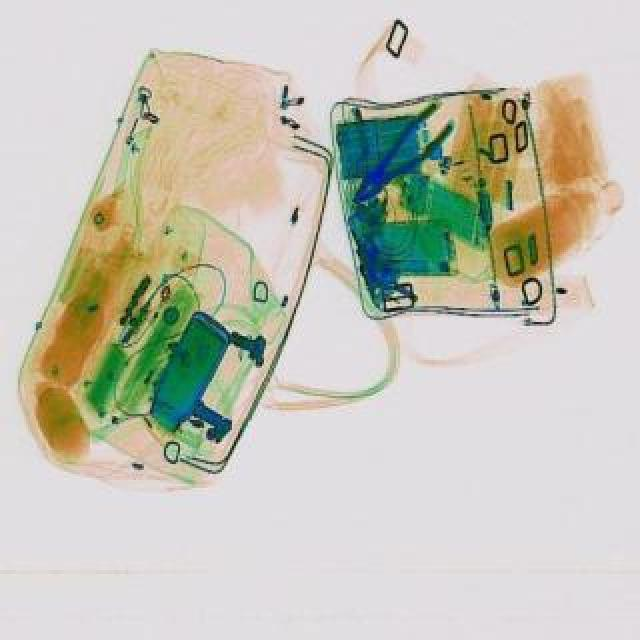wrench: (338, 104, 464, 222)
